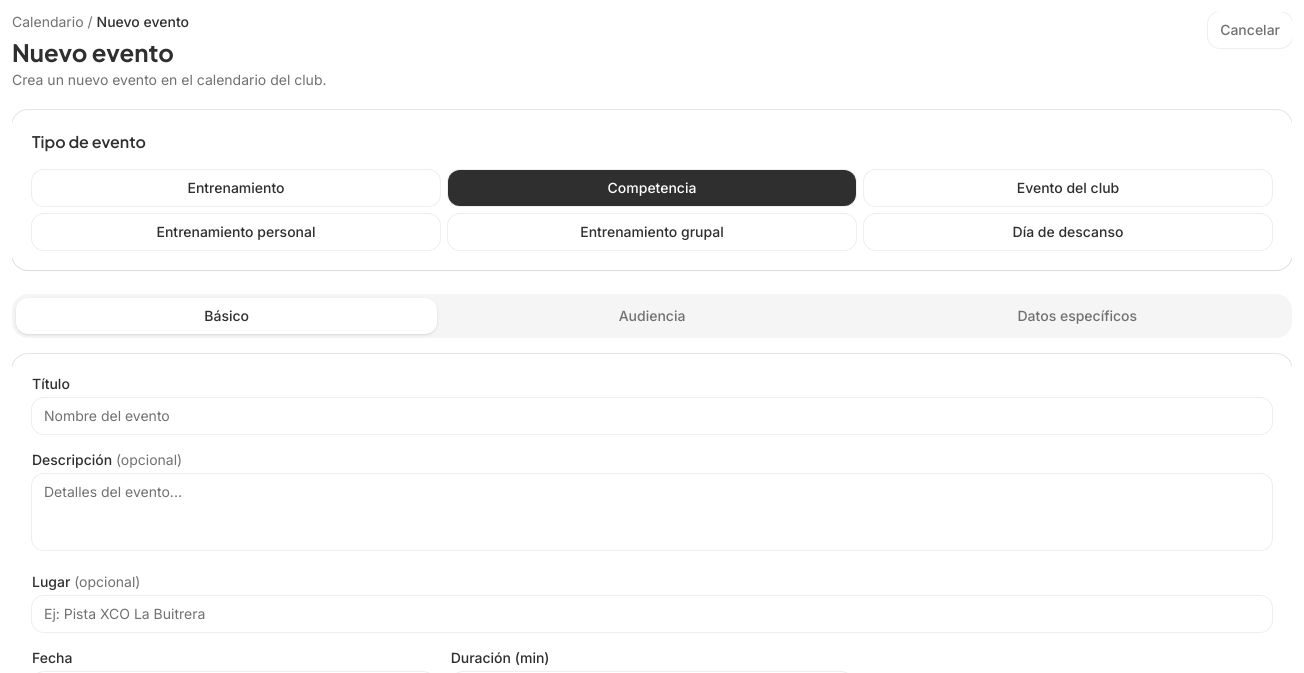
Test: EventFormPage — query param race_event_id › ?race_event_id=42 pasa el prefill a EventForm
Click the tab "Datos específicos": (1077,316) [867,298,1288,334]
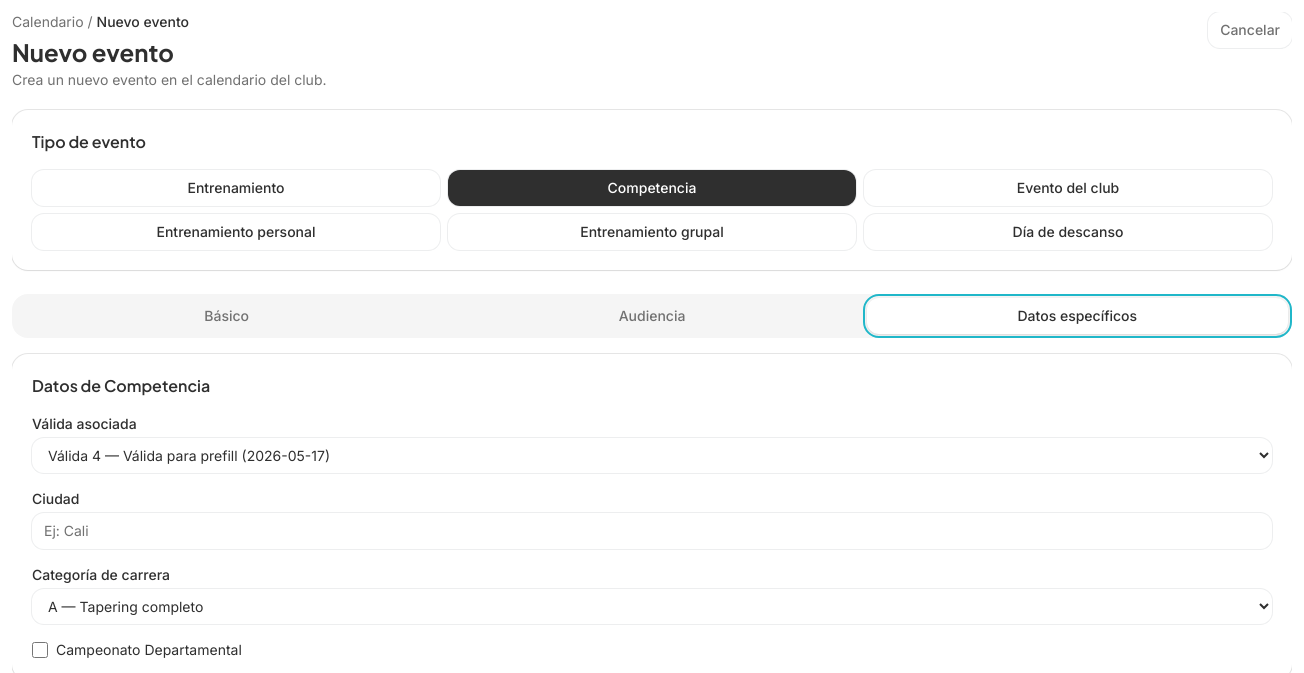
Expected: the dropdown with test id "event-race-event-id" shows "Válida 4 — Válida para prefill (2026-05-17)", [32,438,1272,473]
